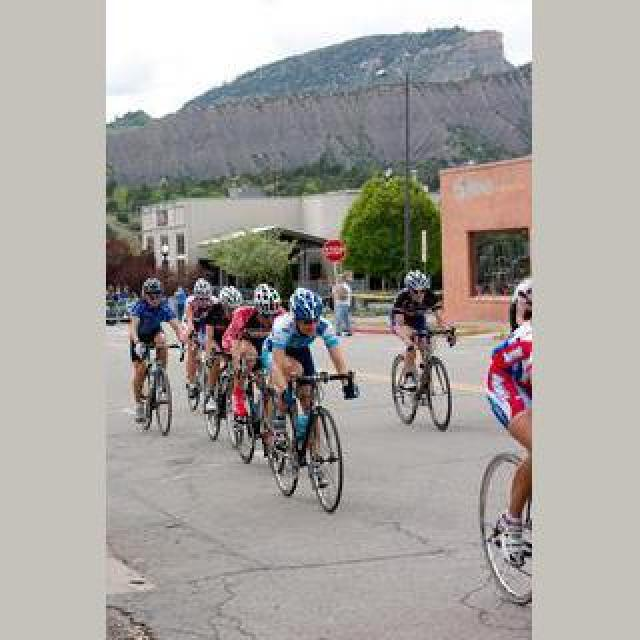MC-Bike: (260, 288, 356, 452), (126, 276, 182, 412), (390, 272, 452, 394), (184, 278, 230, 398)
Person: (270, 368, 354, 512), (392, 326, 456, 432), (206, 344, 252, 452)
